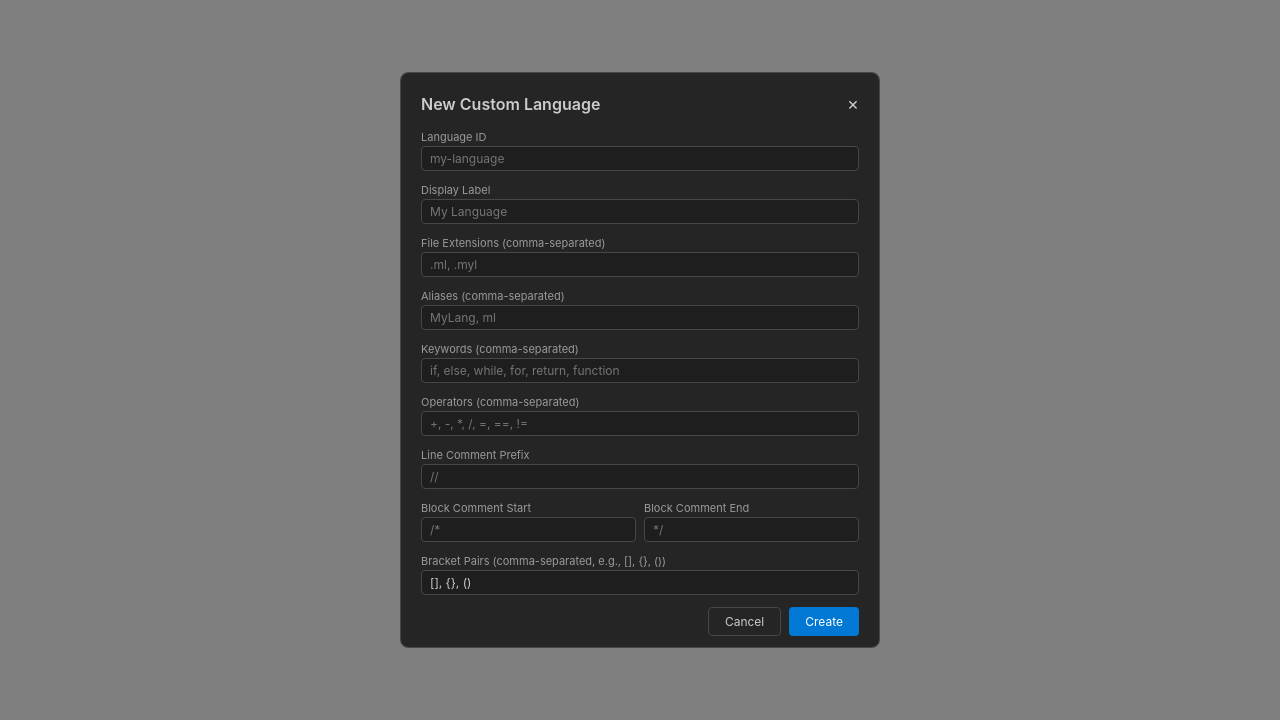
Test: CustomLanguageEditorDialogViewPresenter › shows validation errors from service
The width and height of the screenshot is (1280, 720).
Click save without filling fields
Click the button "Create" at (824,622), box [789,607,859,636]
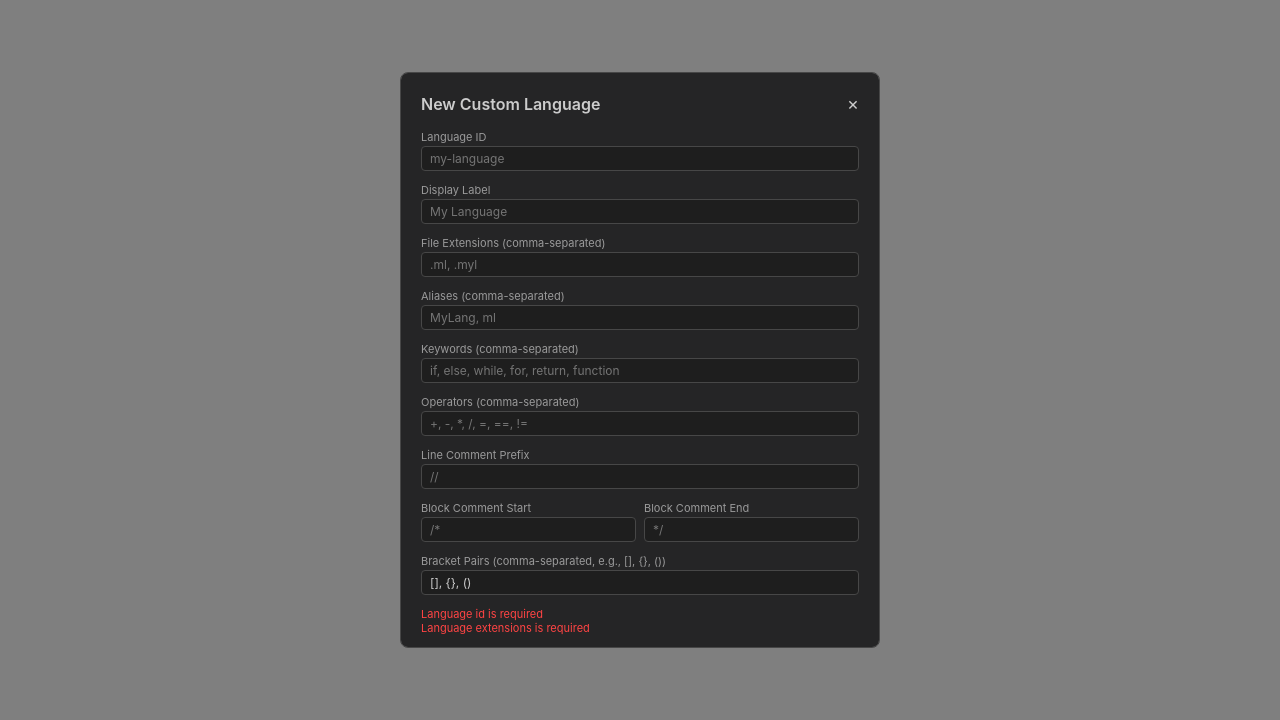
Expected: the text "Language id is required" is shown, [421,607,543,621]
Expected: the text "Language extensions is required" is shown, [421,621,590,635]
